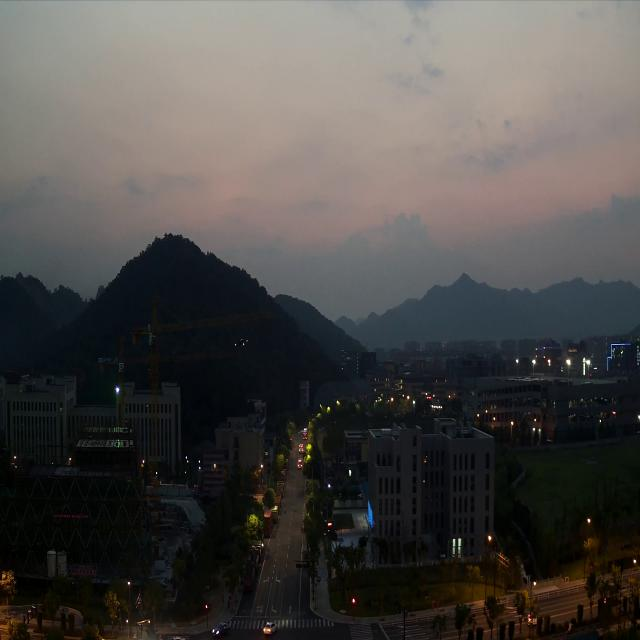drone: (235, 338, 248, 346)
